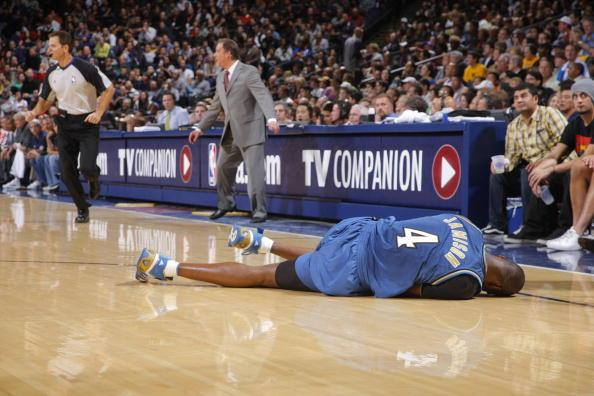bending: (468, 81, 575, 241)
down: (133, 207, 527, 307)
up: (23, 29, 118, 231), (190, 39, 280, 235)
